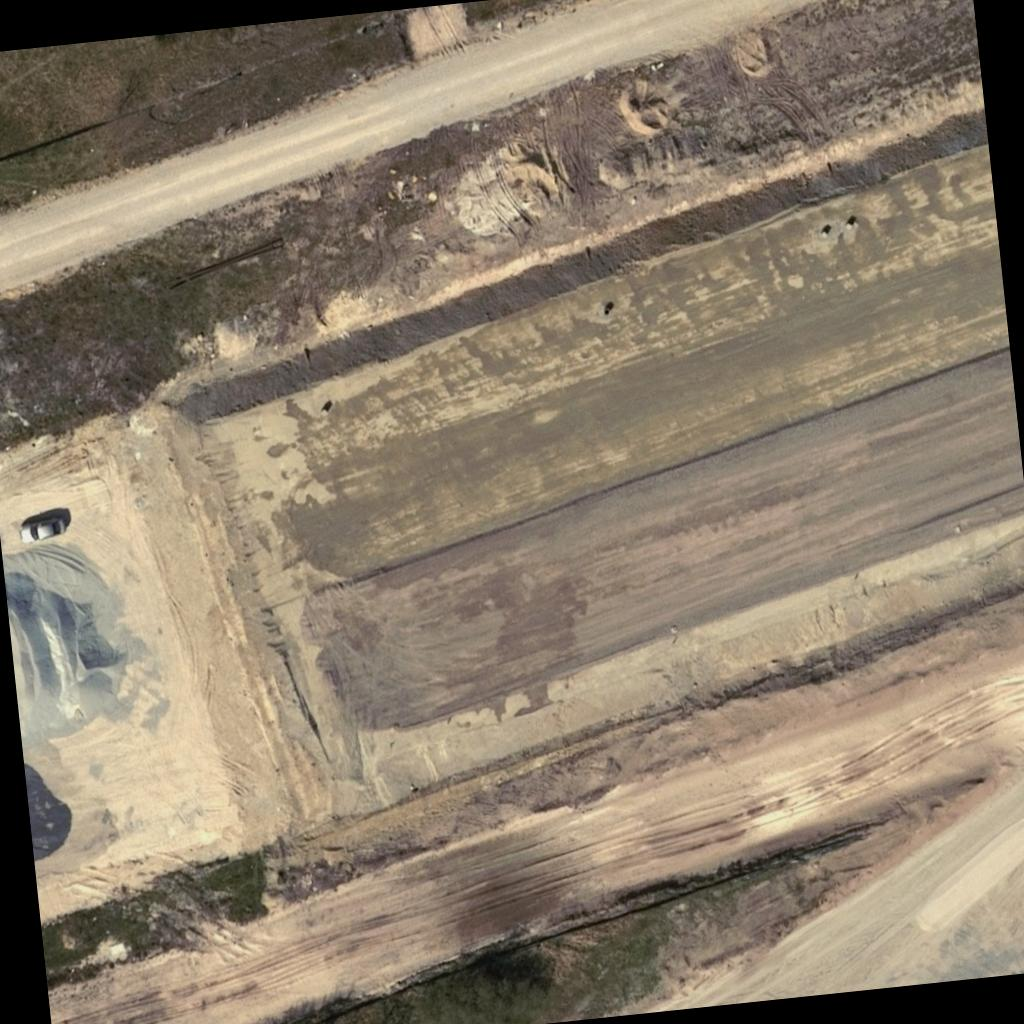samochod_osobowy: (16, 515, 67, 545)
